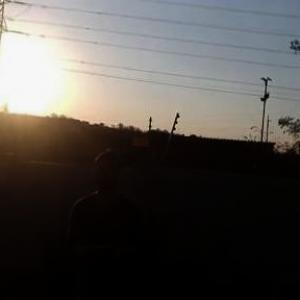follow: (62, 142, 147, 299)
